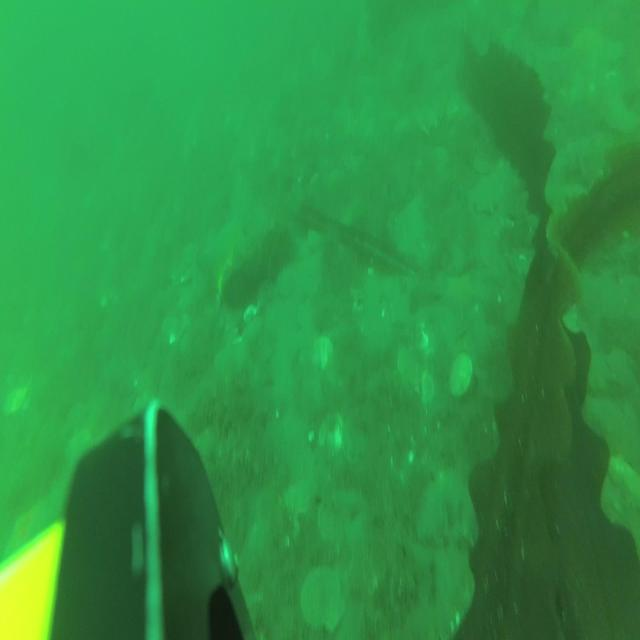holothurian: (607, 452, 640, 514)
scallop: (302, 566, 346, 632), (218, 337, 251, 376), (319, 410, 345, 457), (473, 176, 503, 216), (450, 351, 476, 396), (606, 349, 632, 389), (311, 335, 335, 370), (277, 265, 295, 299), (243, 314, 262, 342)
starfish: (7, 495, 59, 555)
